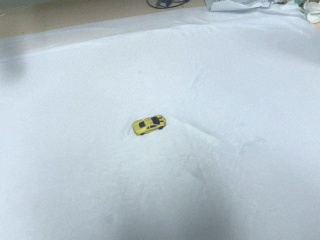toy_car: (132, 112, 166, 136)
